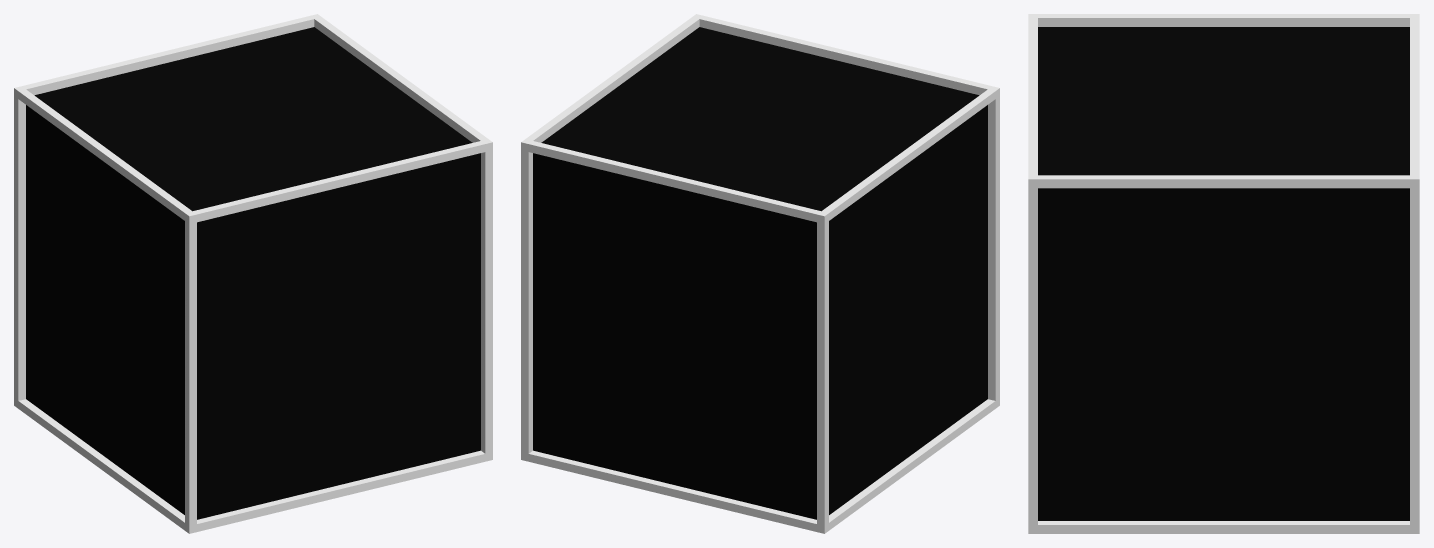
File: tesuto.dae
3 renders of one model, left to right at view 1: azimuth 30°, elevation 25°; view 2: azimuth 150°, elevation 25°; view 3: azimuth 270°, elevation 25°, orthographic. The views are drawn at different scales.
Parts seen in each view (by area): view 1: Cube; view 2: Cube; view 3: Cube.
Part boxes in pixels (x1,y1,x2,y2): Cube: (14,14,492,533); Cube: (521,14,999,533); Cube: (1028,14,1419,533).
Size of the model in its own units: 2 by 2 by 2.
1 material, 1 textured.
